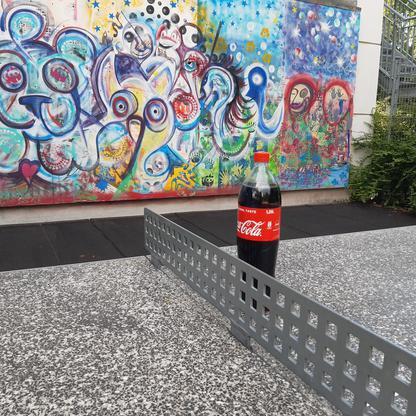coca-cola: (234, 150, 283, 314)
